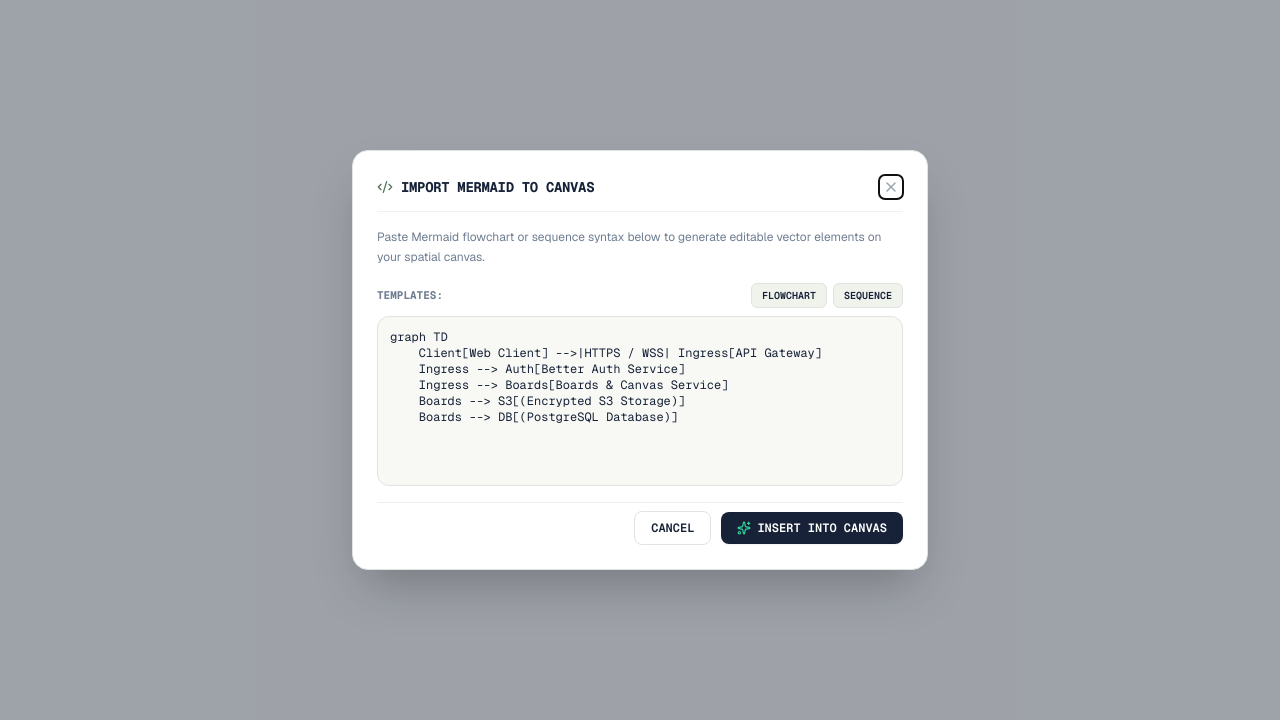
Test: MermaidImportModal Component › displays syntax error banner when conversion fails
This screenshot has width=1280, height=720.
Click the button "Insert into Canvas" at {"x": 812, "y": 528}, box [721,512,903,544]
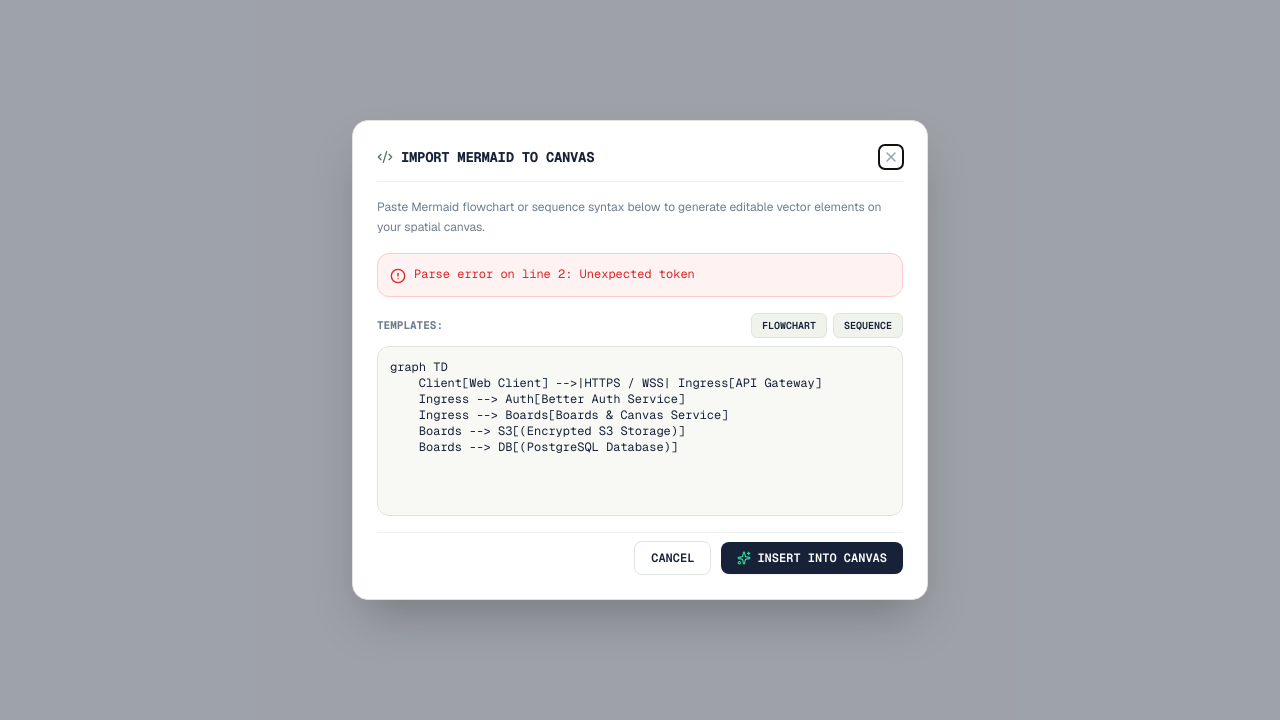
Expected: the text "Parse error on line 2: Unexpected token" is shown, [414,266,695,282]
